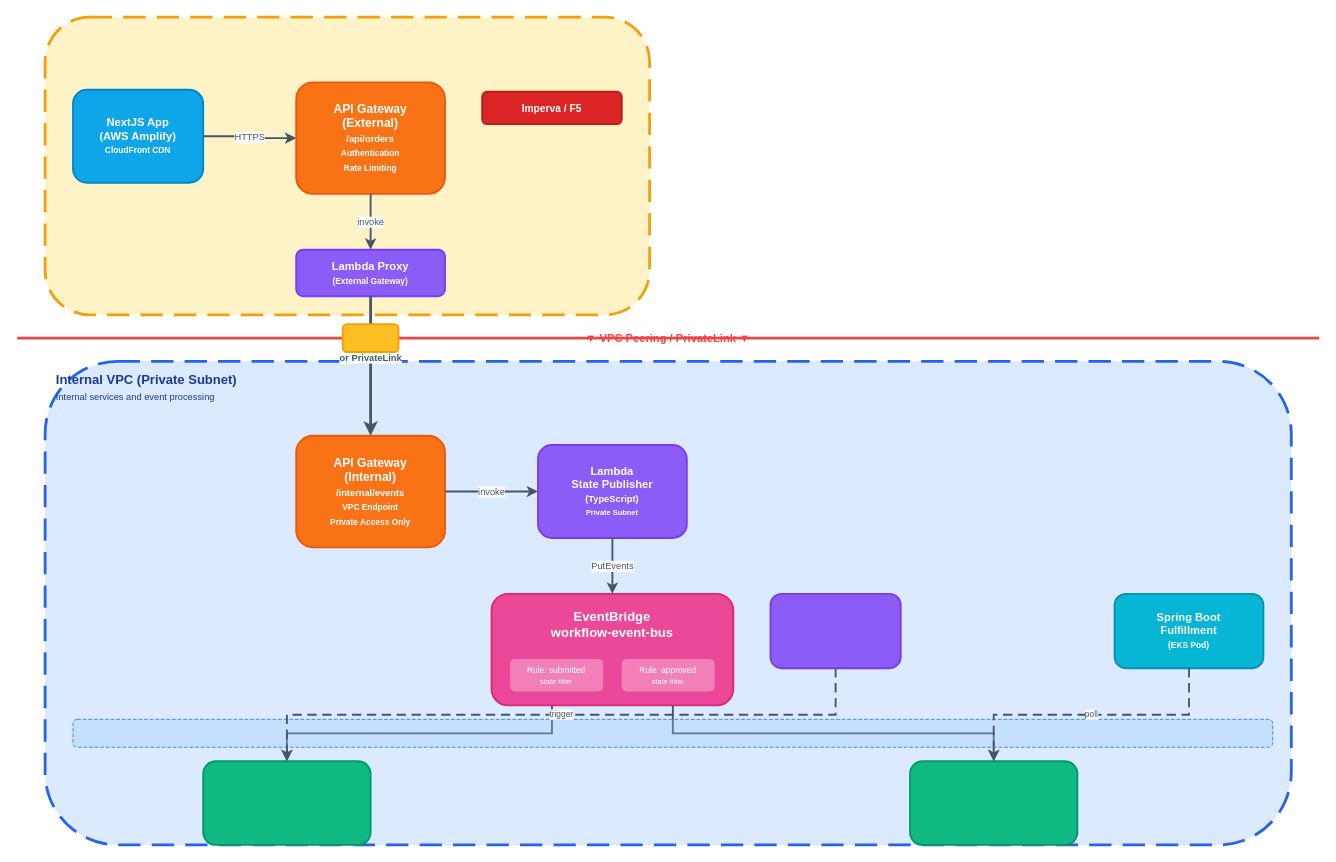
Some shapes in this 1336 by 862 pixel diagram are drawn without their labels. The box of each missing label's shape, as (x1, y1, x2, y2) in pixels:
DMZ VPC (Public Subnet) External-facing resources: (43, 15, 651, 316)
Lambda Approval Processor: (769, 592, 901, 669)
Private: (341, 323, 399, 352)
Private Subnet - Event Consumers: (72, 718, 1273, 747)
SQS Queue order-approved + DLQ: (909, 760, 1078, 845)
SQS Queue order-submitted + DLQ: (202, 760, 371, 845)
